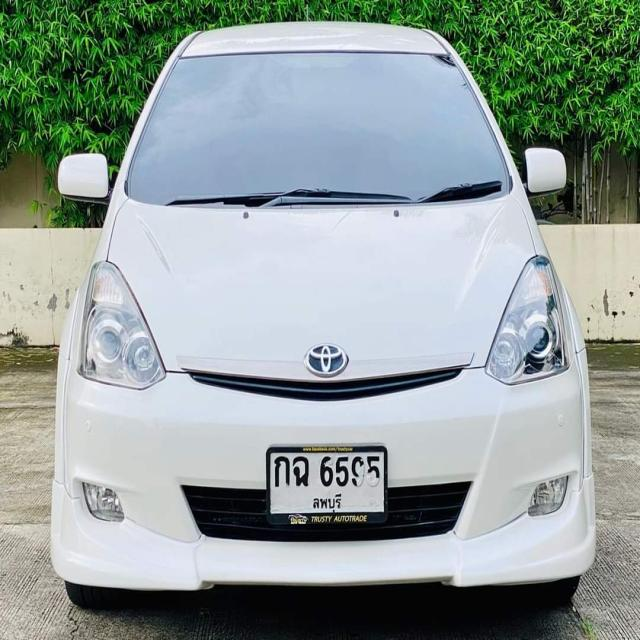license_plate: (266, 442, 389, 526)
